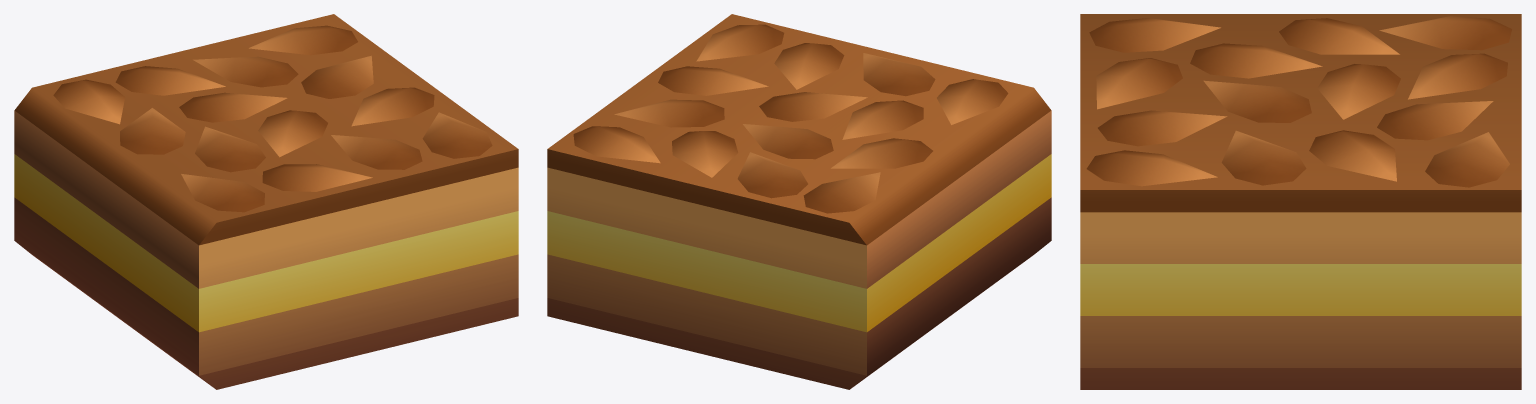
File: m_Bienenstich03_Slice02.fbx
The picture shows the model from 3 angles, left to right: view 1: azimuth 30°, elevation 25°; view 2: azimuth 150°, elevation 25°; view 3: azimuth 270°, elevation 25°; orthographic projection. The views are drawn at different scales.
Visible parts, largest first — view 1: m_Bienenstich03_Slice02; view 2: m_Bienenstich03_Slice02; view 3: m_Bienenstich03_Slice02.
Boxes of the visible parts, x1=… form: m_Bienenstich03_Slice02: x1=14, y1=14, x2=518, y2=389; m_Bienenstich03_Slice02: x1=547, y1=14, x2=1051, y2=389; m_Bienenstich03_Slice02: x1=1080, y1=14, x2=1521, y2=389.
Bounding box in the file's own units: 10 × 5.3 × 10.
